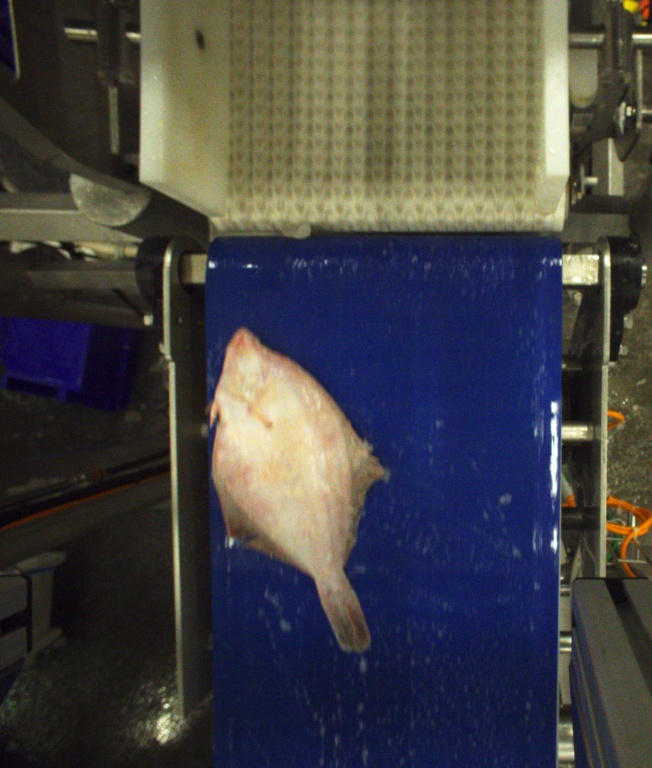PLE: (211, 326, 389, 651)
